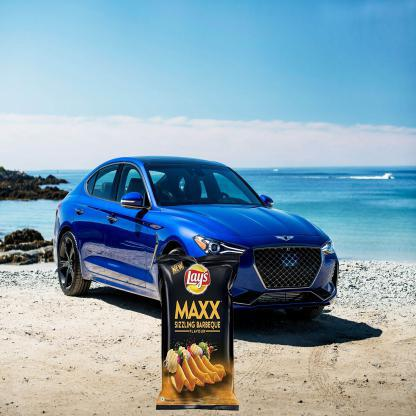maxx_sizzling_barbeque: (156, 256, 237, 410)
